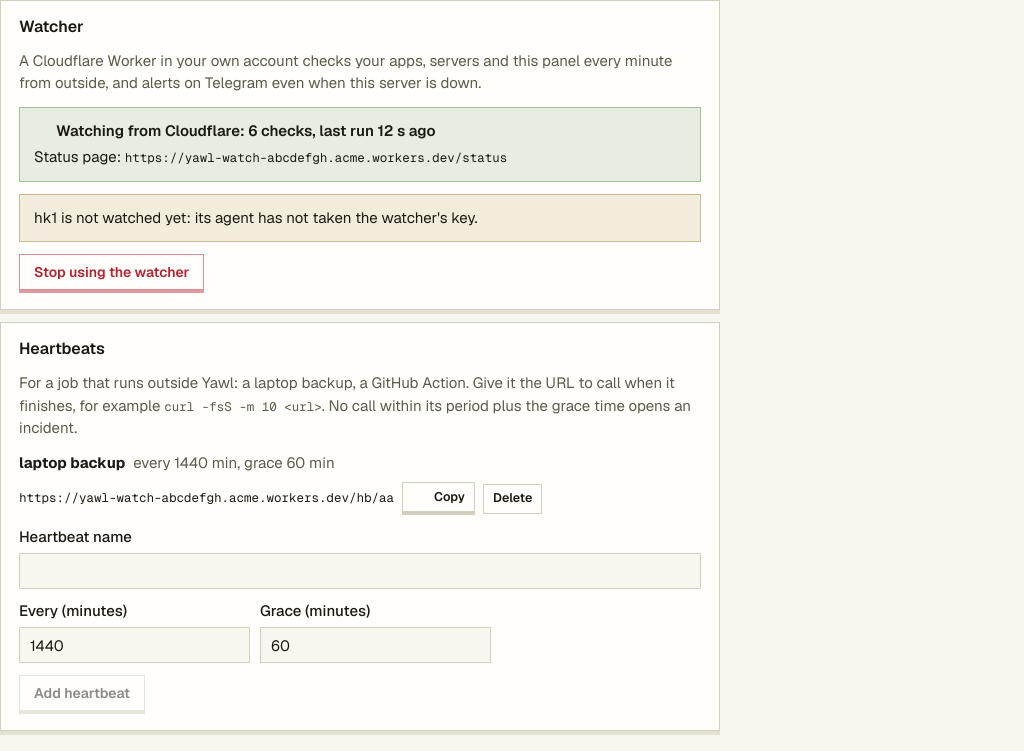
Test: Watcher › shows what it watches, the status page and heartbeats
Expected: the text "Watching from Cloudflare: 6 checks, last run 12 s ago" is shown, [56, 121, 436, 140]
Expected: the text "hk1 is not watched yet: its agent has not taken the watcher's key." is shown, [34, 208, 478, 227]
In the field labelled "Heartbeat name": {"x": 360, "y": 571} [19, 553, 701, 589], type "nightly export"
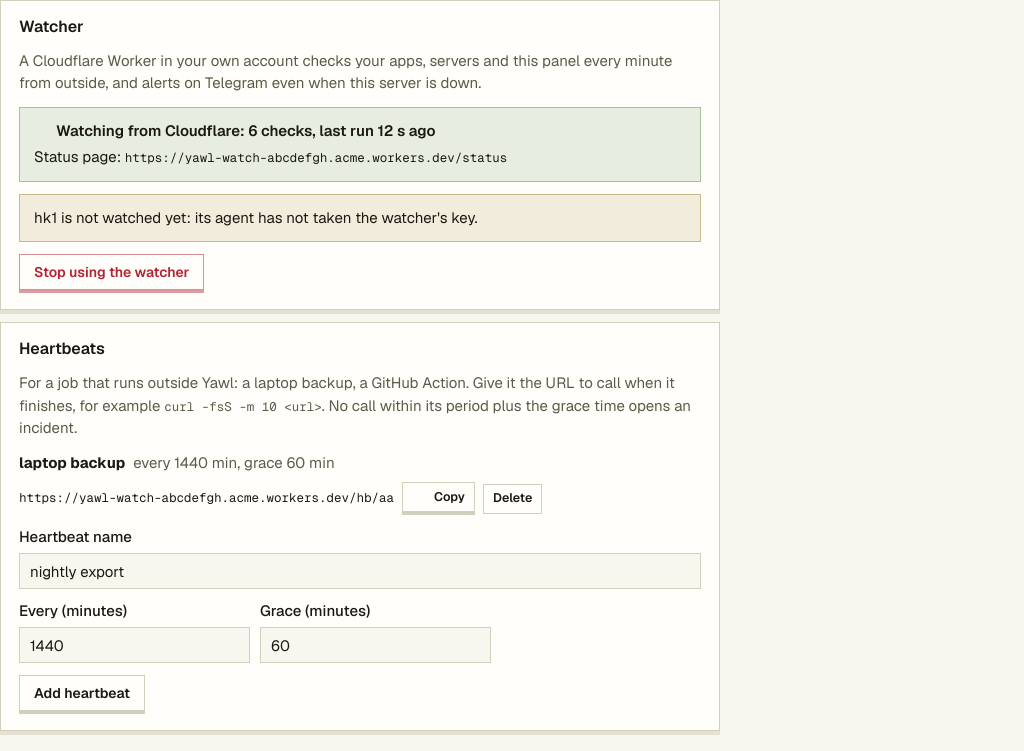
Replace the text in the number field labelled "Every (minutes)" with "60": {"x": 134, "y": 645} [19, 627, 250, 663]
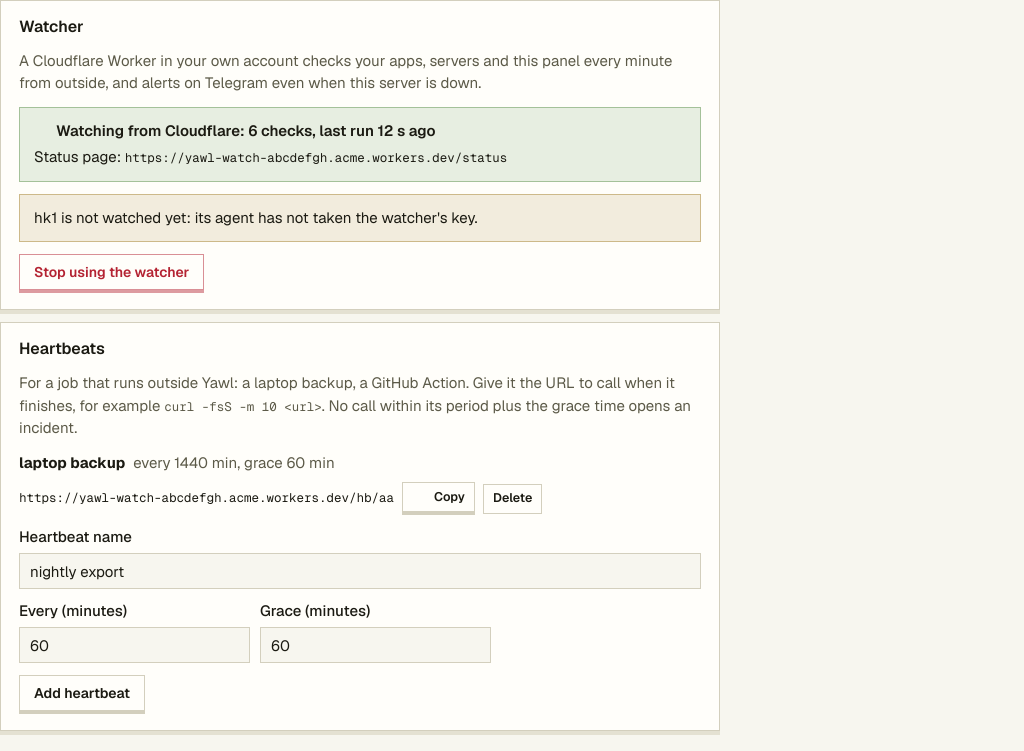
Replace the text in the number field labelled "Grace (minutes)" with "10": {"x": 376, "y": 645} [260, 627, 491, 663]
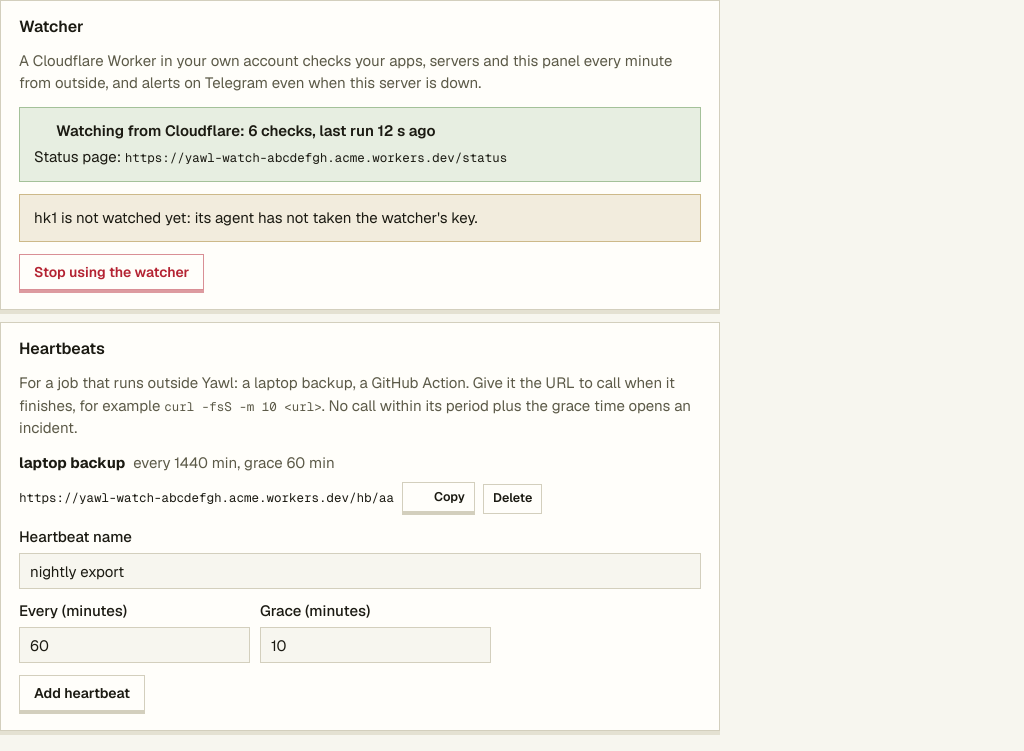
Click the button "Add heartbeat": {"x": 82, "y": 693} [19, 675, 145, 711]
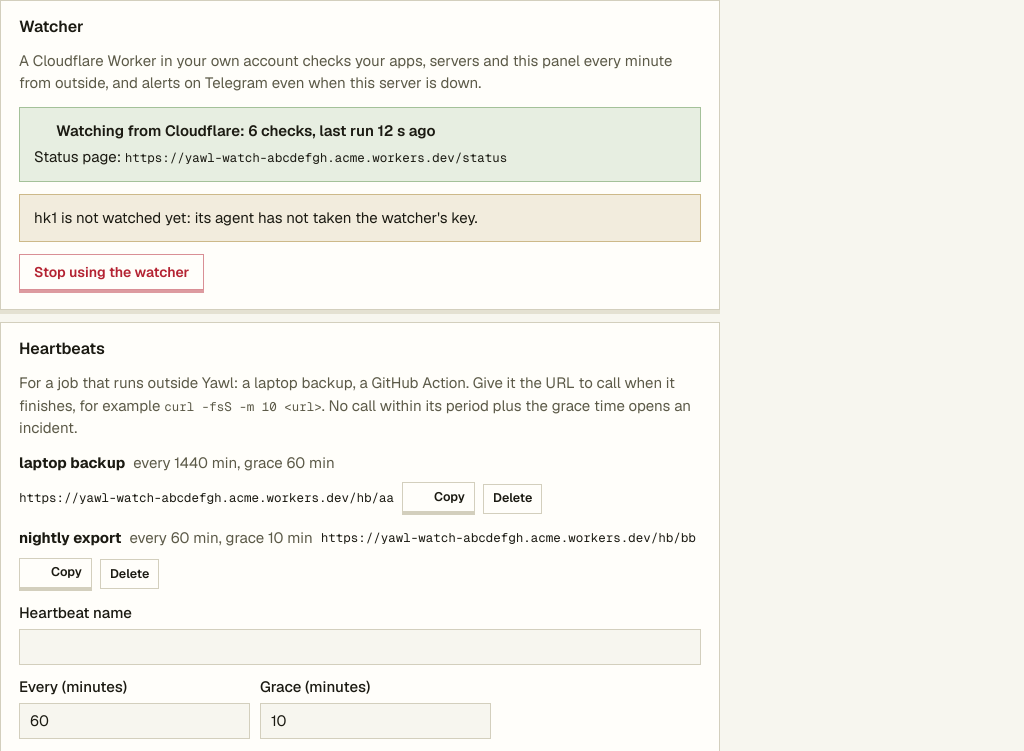
Now the text "nightly export" is shown, box [19, 527, 122, 550]
